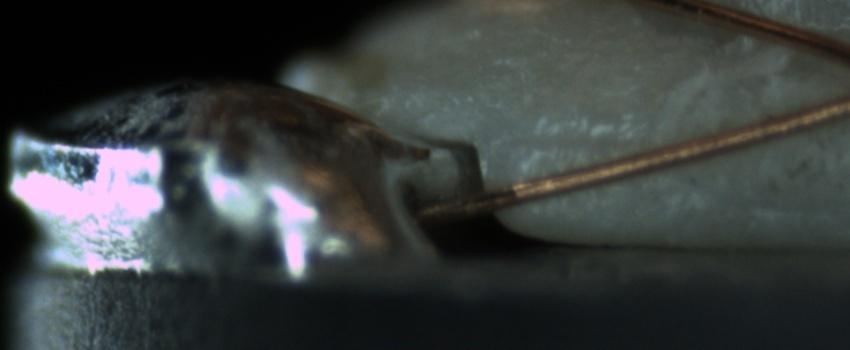DL: (512, 109, 649, 171)
